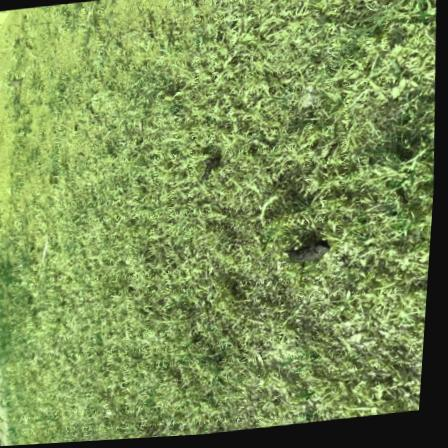dog-poop: (286, 238, 336, 274), (194, 151, 233, 194)
